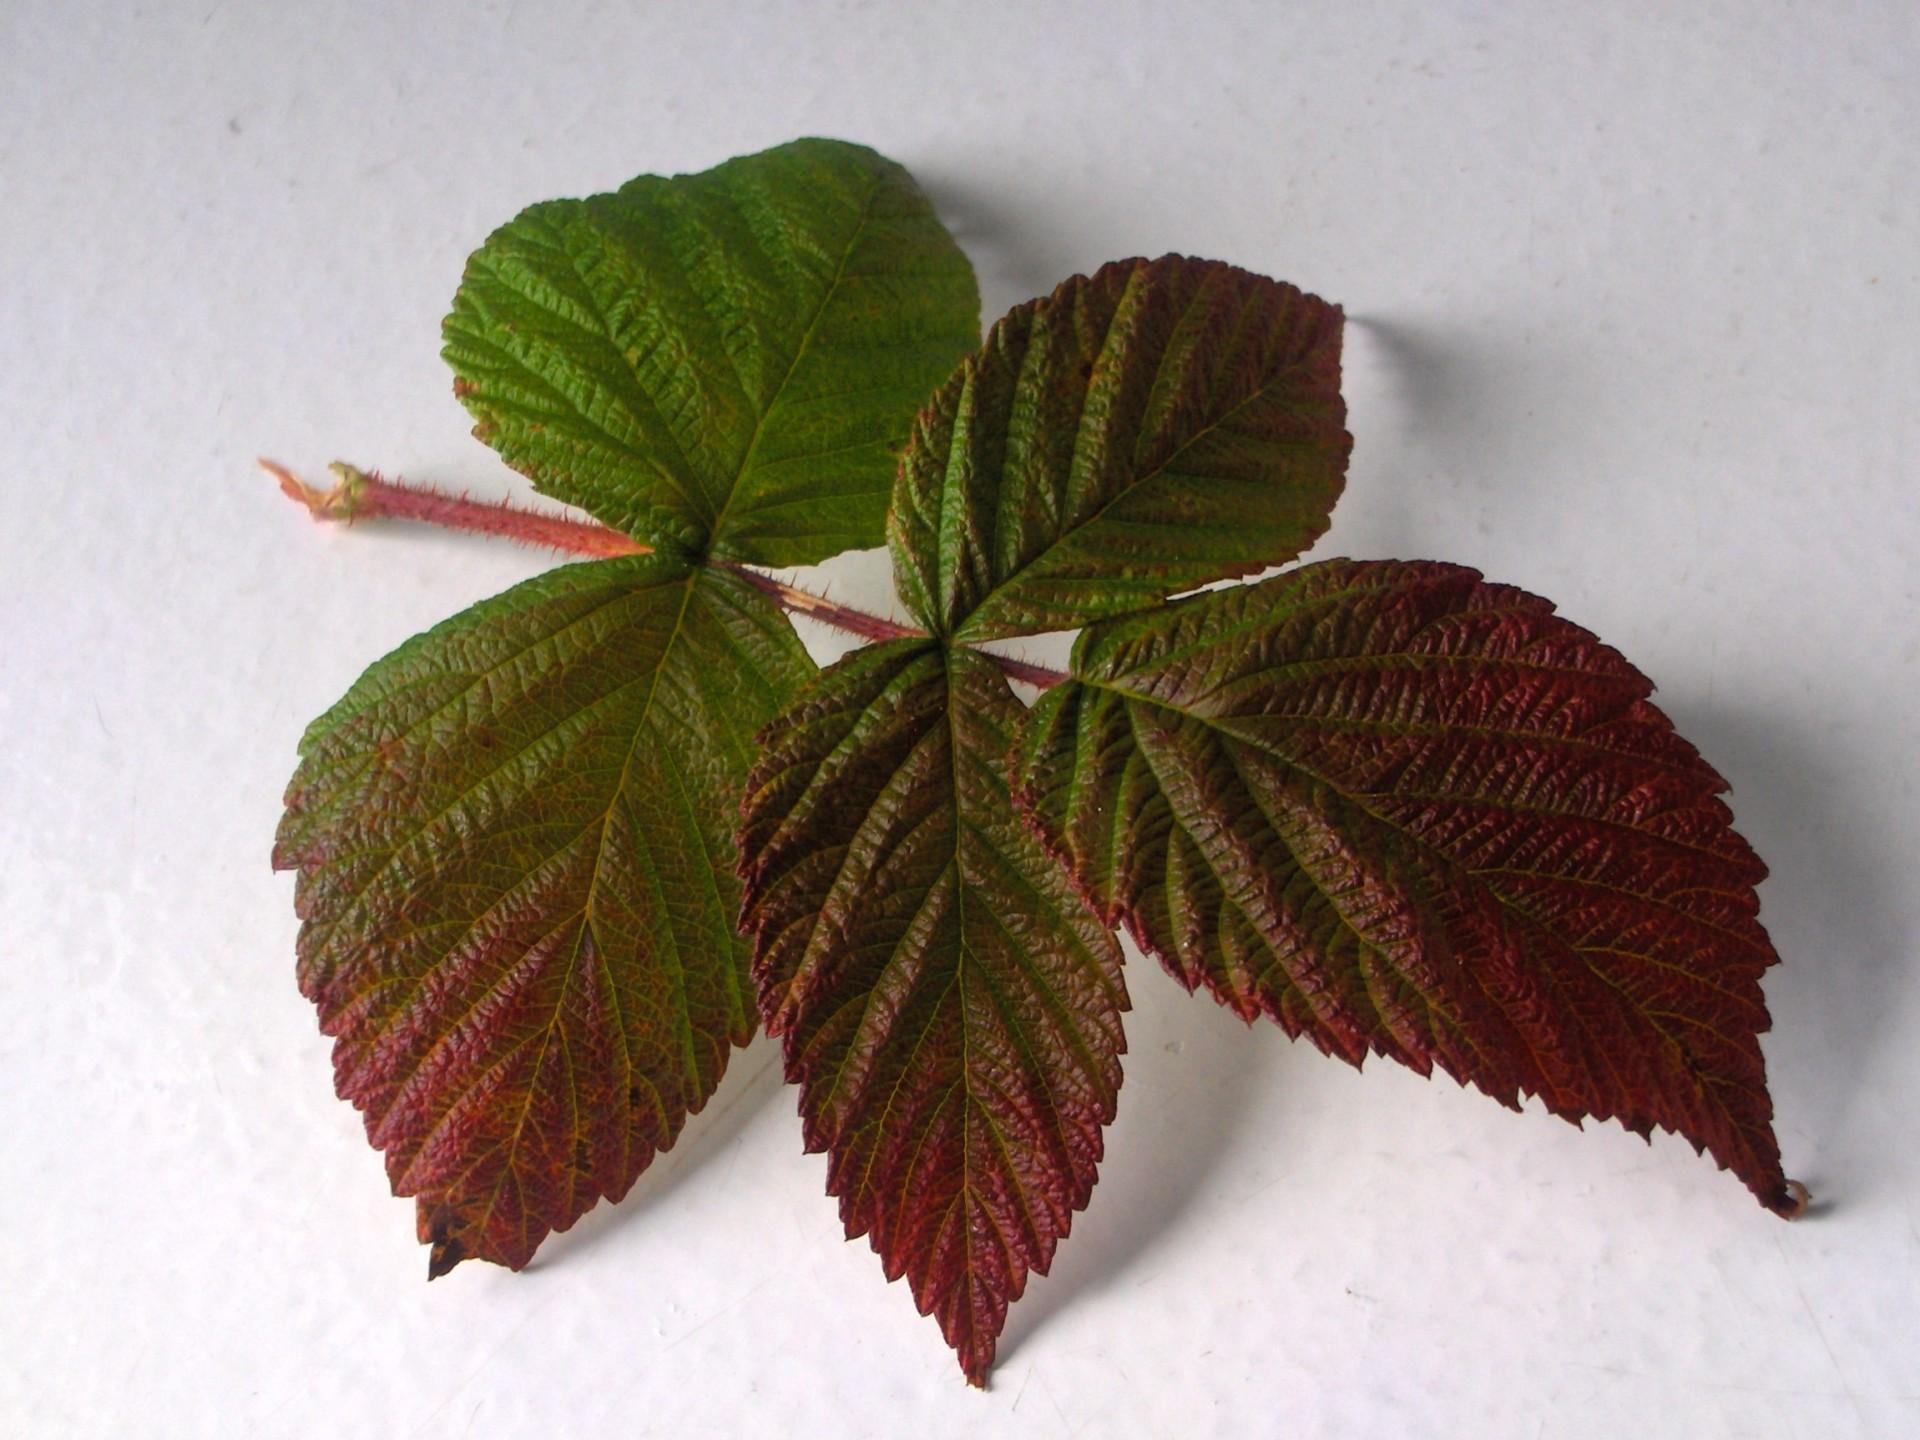Raspberry leaf: (1011, 548, 1816, 1230), (271, 548, 848, 1292), (735, 641, 1129, 1389), (444, 110, 984, 560), (893, 239, 1368, 644)
